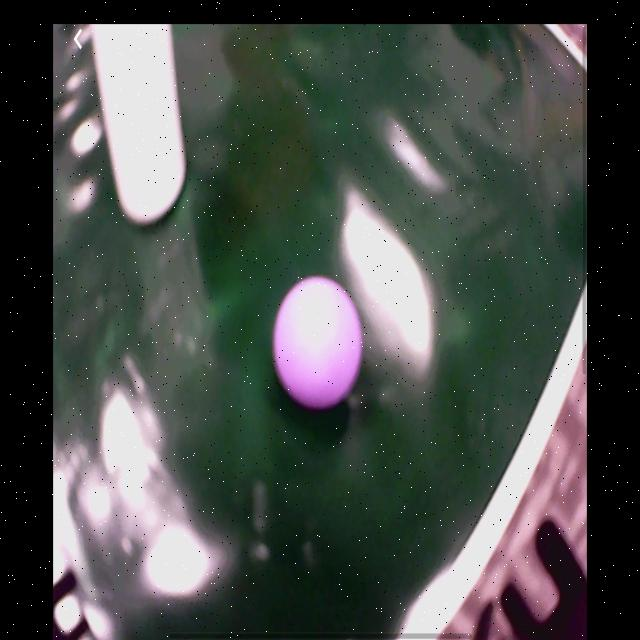ball: (275, 278, 363, 415)
